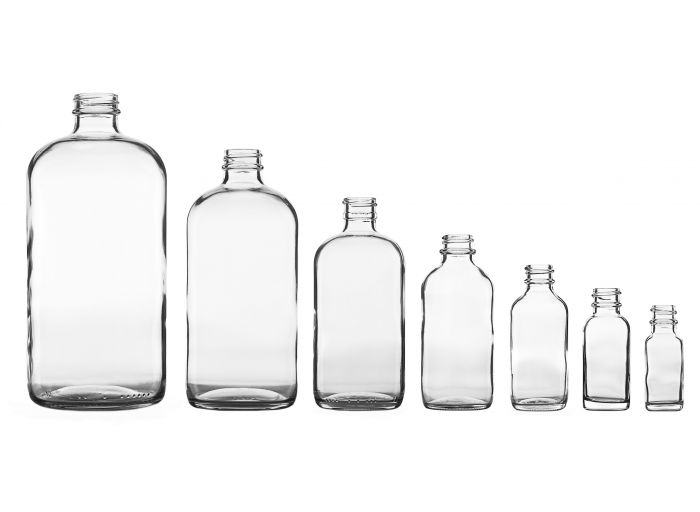glass_bottle: (20, 87, 169, 417), (179, 143, 306, 420), (305, 190, 414, 417), (417, 227, 498, 418), (507, 258, 570, 417), (578, 283, 636, 418), (639, 299, 687, 416)
